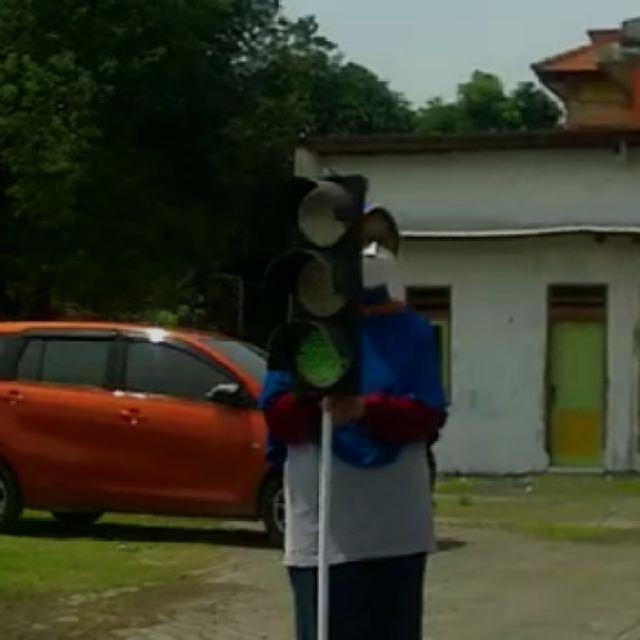Green: (272, 164, 372, 404)
